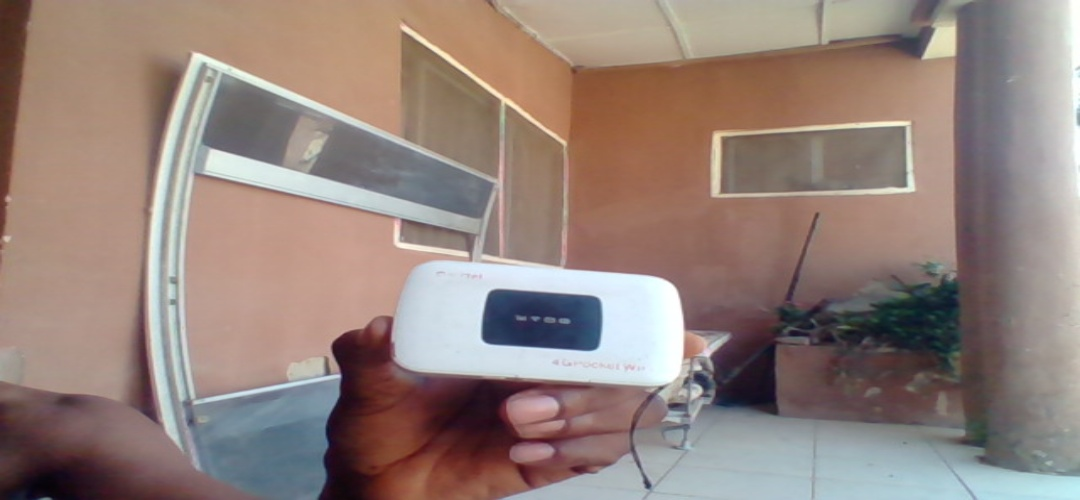mifi: (399, 257, 683, 386)
